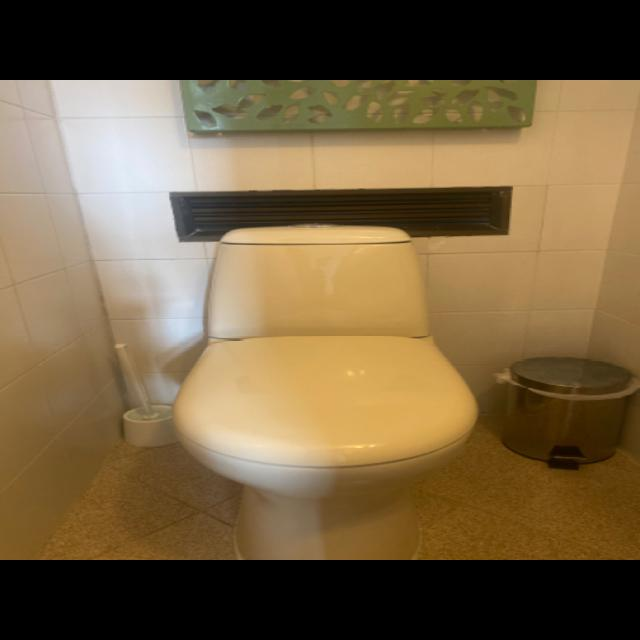toilet: (170, 223, 479, 559)
